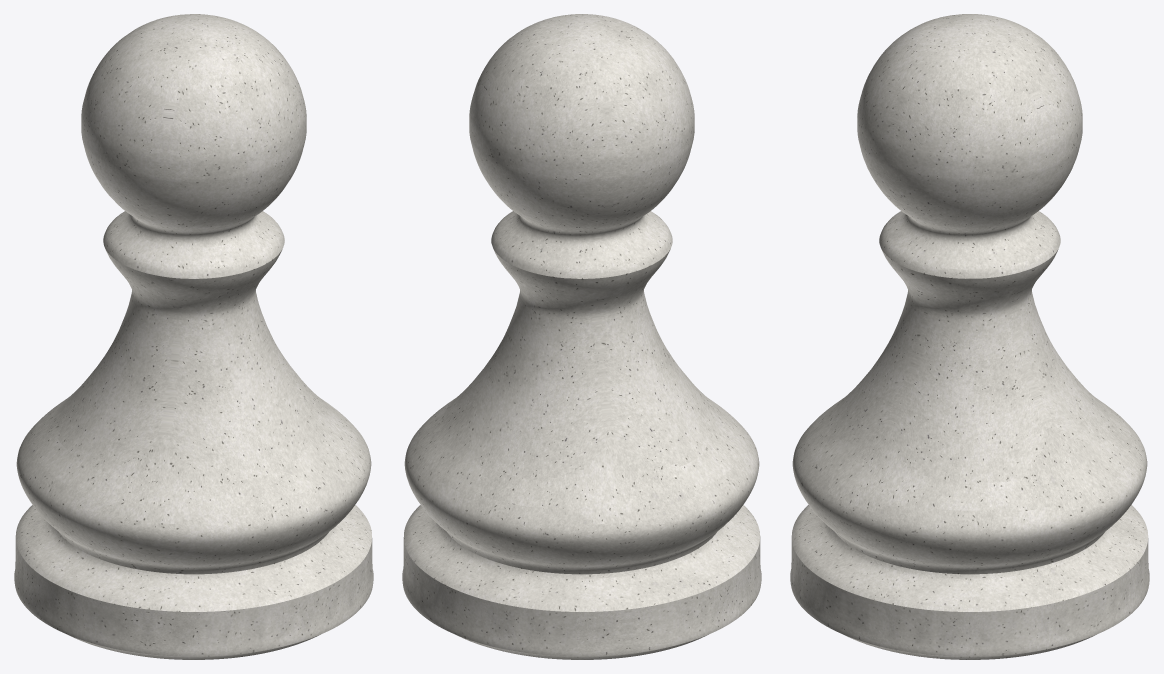
The model's file is pawn-white-hd.glb.
The picture shows the model from 3 angles, left to right: view 1: azimuth 30°, elevation 25°; view 2: azimuth 150°, elevation 25°; view 3: azimuth 270°, elevation 25°; orthographic projection.
Visible parts, largest first — view 1: pesec_bila; view 2: pesec_bila; view 3: pesec_bila.
Boxes of the visible parts, box(x1,y1,x2,y2) form: pesec_bila: box(14, 14, 373, 659); pesec_bila: box(402, 14, 761, 659); pesec_bila: box(790, 14, 1149, 659).
Size of the model in its own units: 0.4949 by 0.87 by 0.4949.
1 material, 1 textured.
